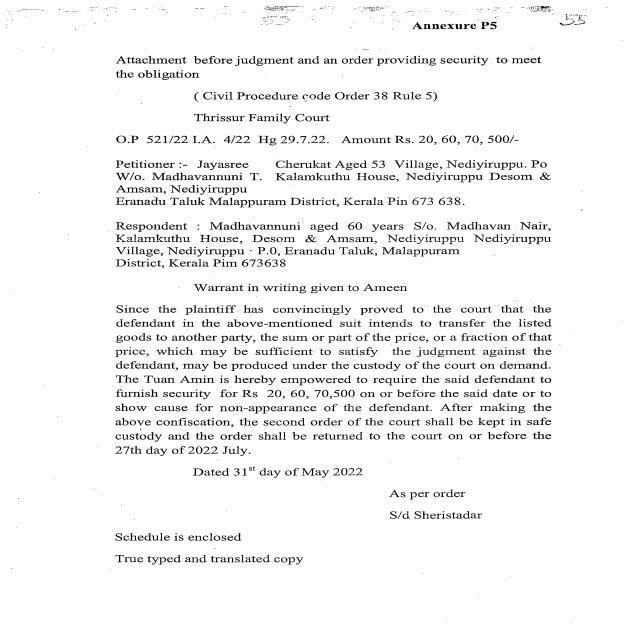page-number: (556, 2, 638, 154)
